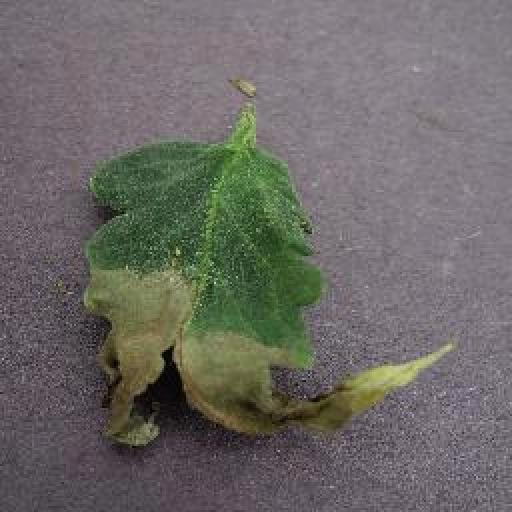disease_tomato: (76, 135, 456, 457)
